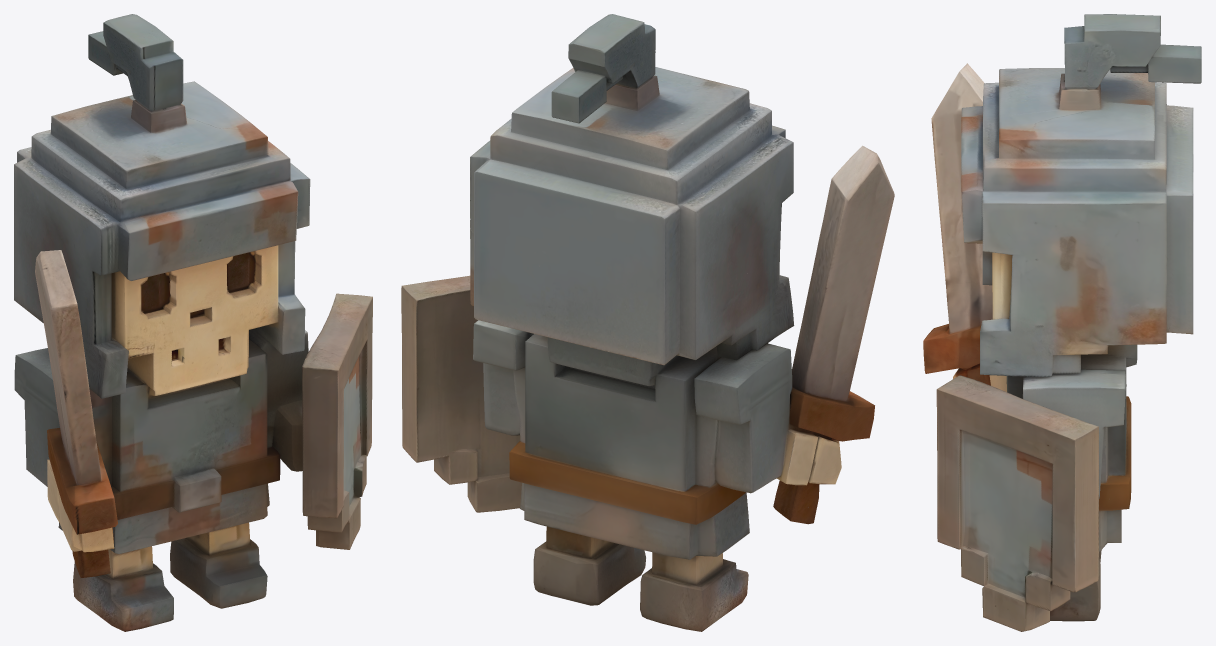
Rendered from Skeleton_Warrior_shaded.glb.
3 renders of one model, left to right at view 1: azimuth 30°, elevation 25°; view 2: azimuth 150°, elevation 25°; view 3: azimuth 270°, elevation 25°, orthographic. The views are drawn at different scales.
Parts seen in each view (by area): view 1: model; view 2: model; view 3: model.
Part boxes in pixels (x1,y1,x2,y2): model: (14,14,372,631); model: (401,14,894,631); model: (923,14,1201,631).
Bounding box in the file's own units: 1.42 × 1.9 × 0.8542.
Materials: 1 (1 with a texture image).
